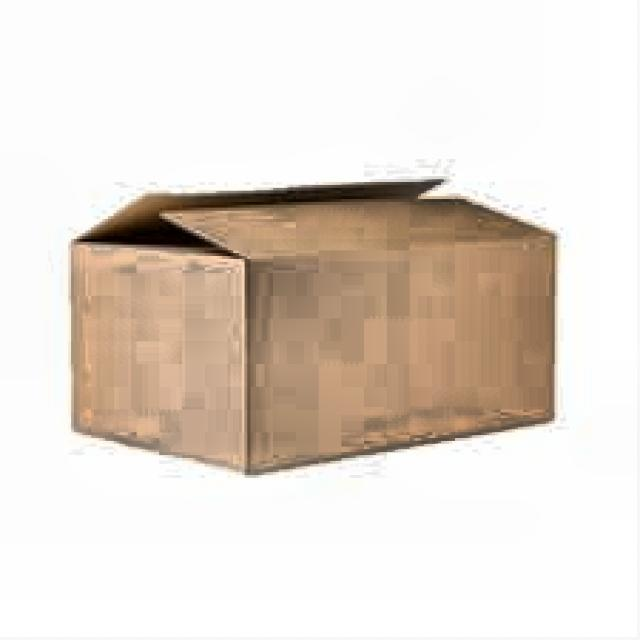Cardbox: (51, 159, 581, 498)
